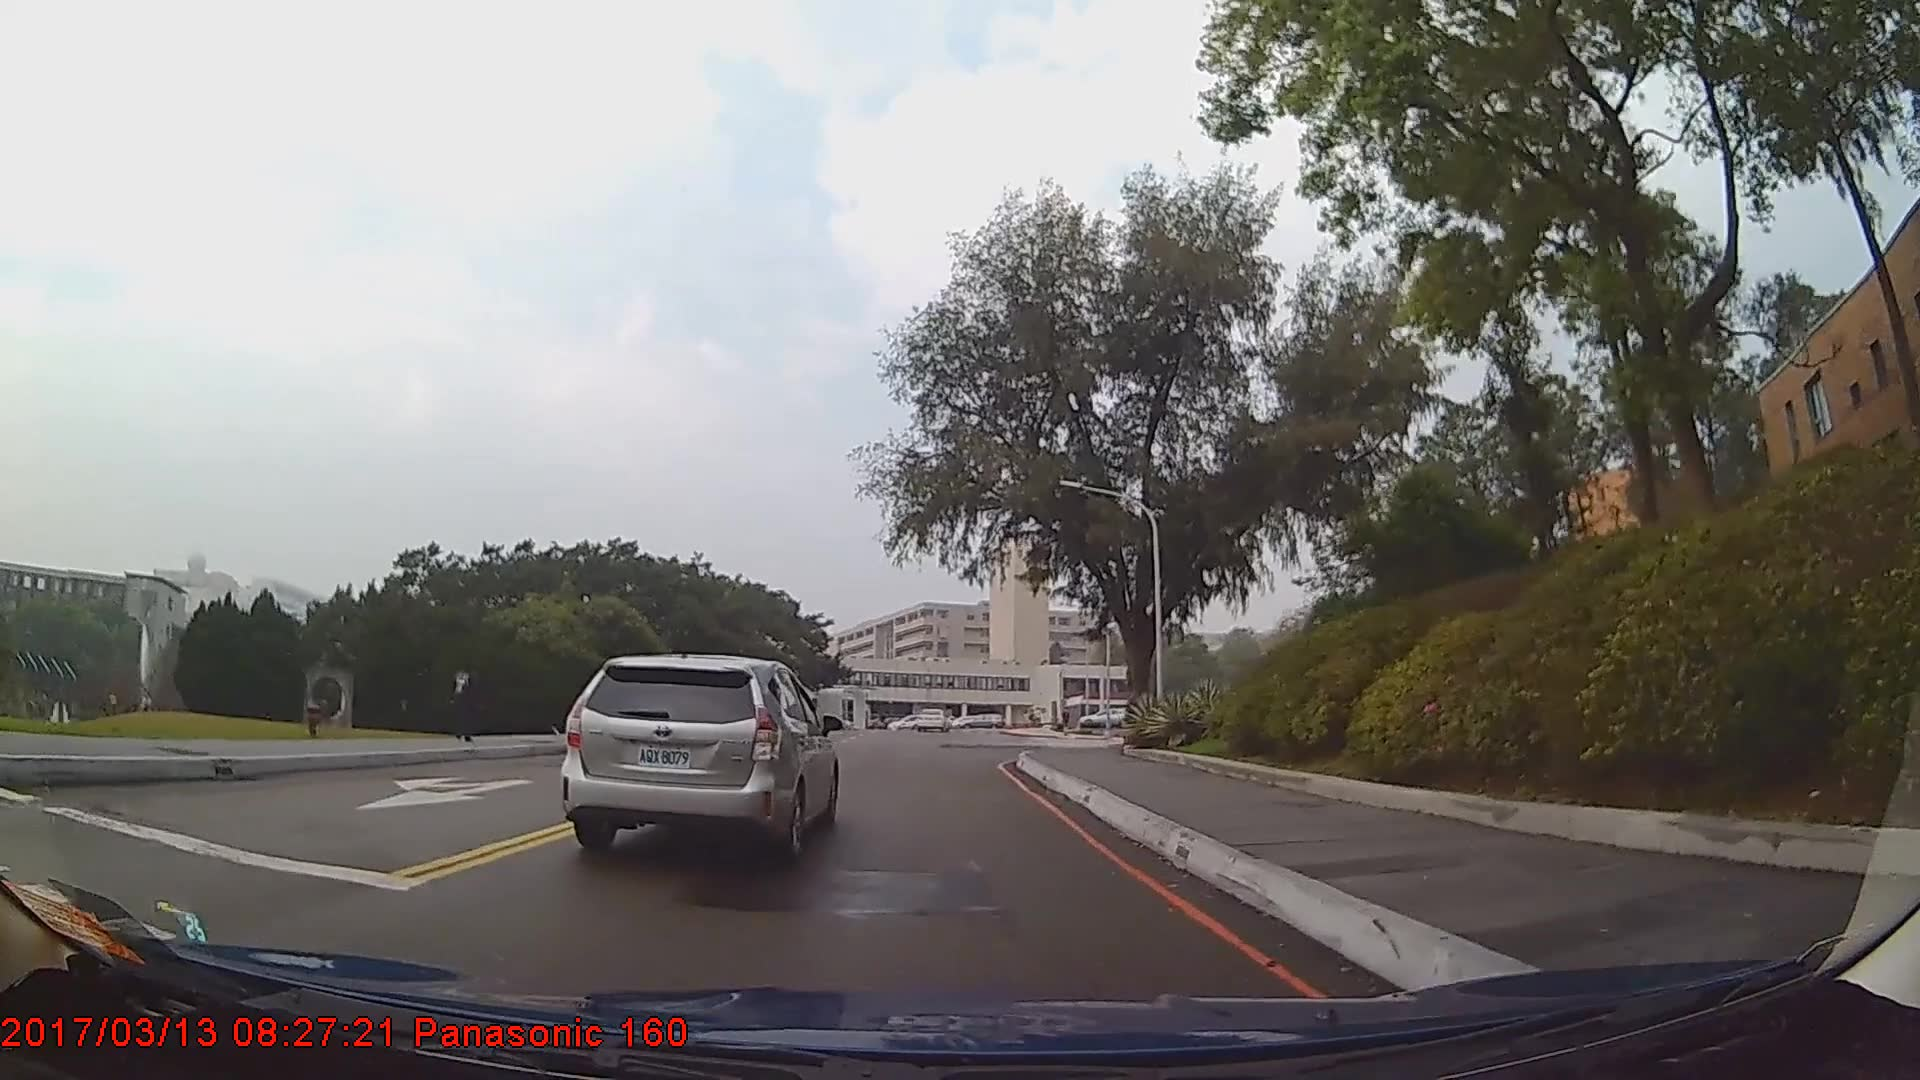pedestrian: (444, 652, 489, 751)
vehicle: (558, 649, 838, 864), (914, 706, 950, 733)
